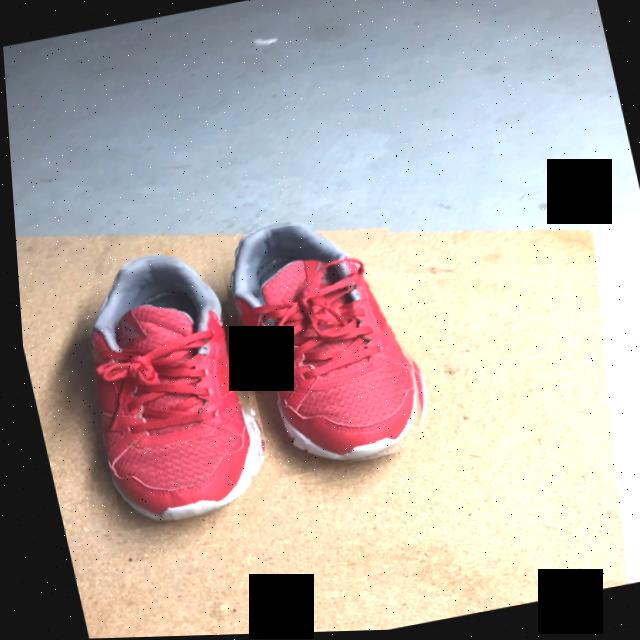shoe: (85, 261, 255, 525), (227, 228, 413, 466)
